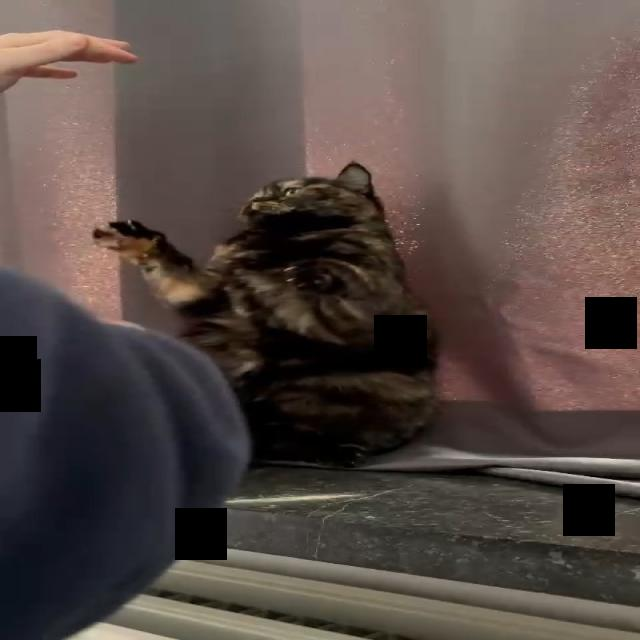authorized: (91, 160, 441, 469)
